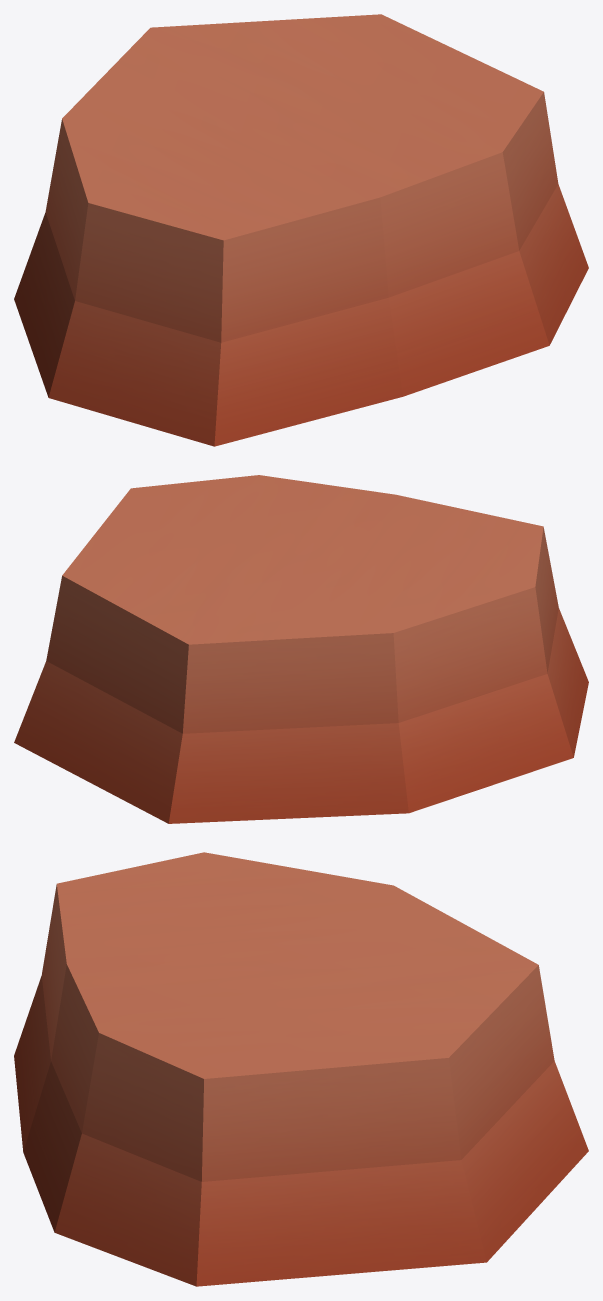
Rendered from cliff3.fbx.
The picture shows the model from 3 angles, top to bottom: view 1: azimuth 30°, elevation 25°; view 2: azimuth 150°, elevation 25°; view 3: azimuth 270°, elevation 25°; orthographic projection. The views are drawn at different scales.
Visible parts, largest first — view 1: cliff3; view 2: cliff3; view 3: cliff3.
Boxes of the visible parts, x1=… form: cliff3: x1=14, y1=14, x2=588, y2=446; cliff3: x1=14, y1=475, x2=588, y2=823; cliff3: x1=14, y1=852, x2=588, y2=1286.
Size of the model in its own units: 4.57 by 1.49 by 4.15.
